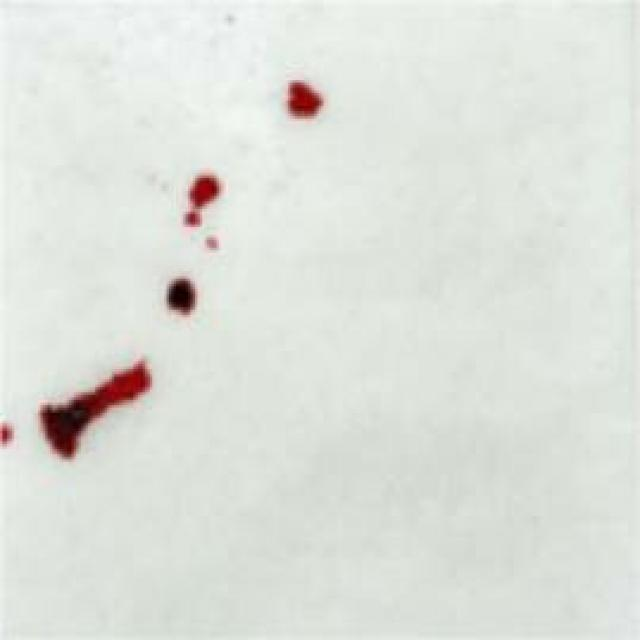wound: (26, 343, 179, 476), (152, 159, 262, 258), (260, 66, 344, 145), (144, 268, 224, 336)
